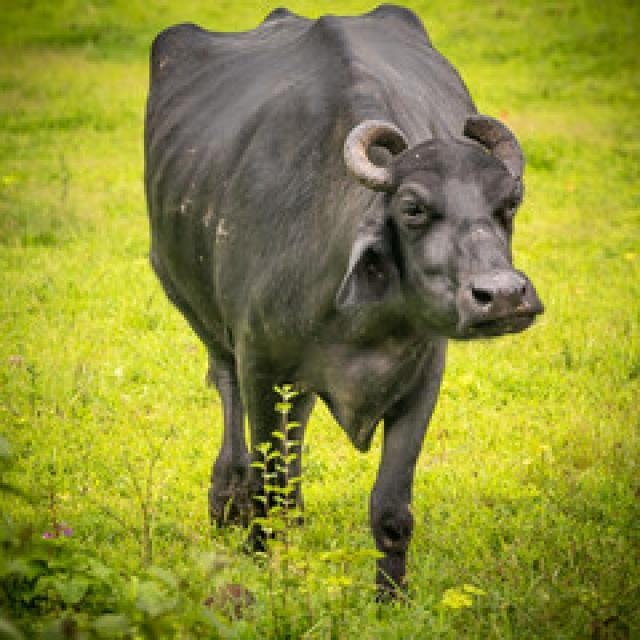Buffalo: (136, 0, 546, 605)
